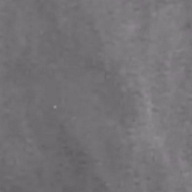Target: (52, 104, 58, 110)
